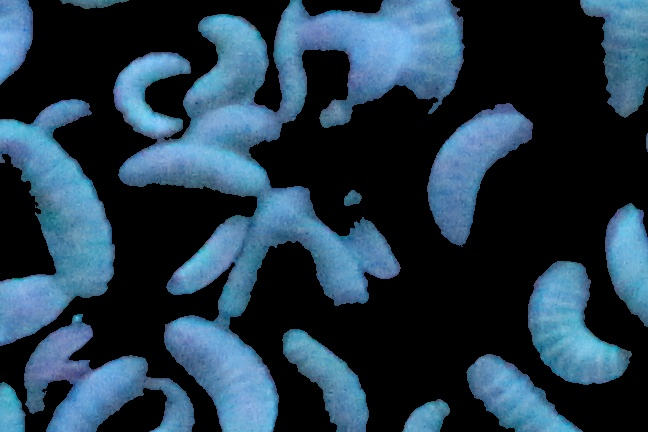larvae: (1, 118, 113, 296), (160, 314, 281, 432), (429, 111, 532, 248), (527, 257, 628, 381), (297, 11, 407, 102), (374, 1, 467, 101), (281, 333, 368, 432), (466, 357, 580, 432), (184, 17, 268, 115), (46, 353, 148, 432), (121, 143, 277, 190), (112, 51, 194, 139), (300, 222, 376, 310), (341, 184, 407, 282), (169, 215, 249, 294), (599, 203, 648, 330), (600, 1, 648, 117), (1, 274, 69, 346), (270, 1, 308, 121), (143, 373, 196, 431), (1, 1, 33, 87), (405, 393, 454, 432), (32, 100, 93, 131)
